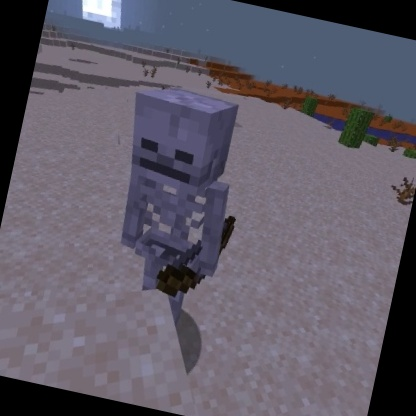skeleton: (89, 75, 264, 324)
